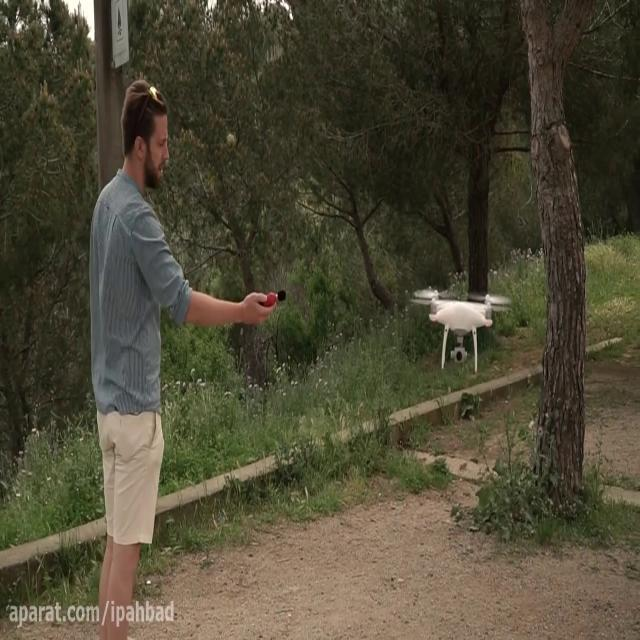drone: (411, 289, 512, 370)
